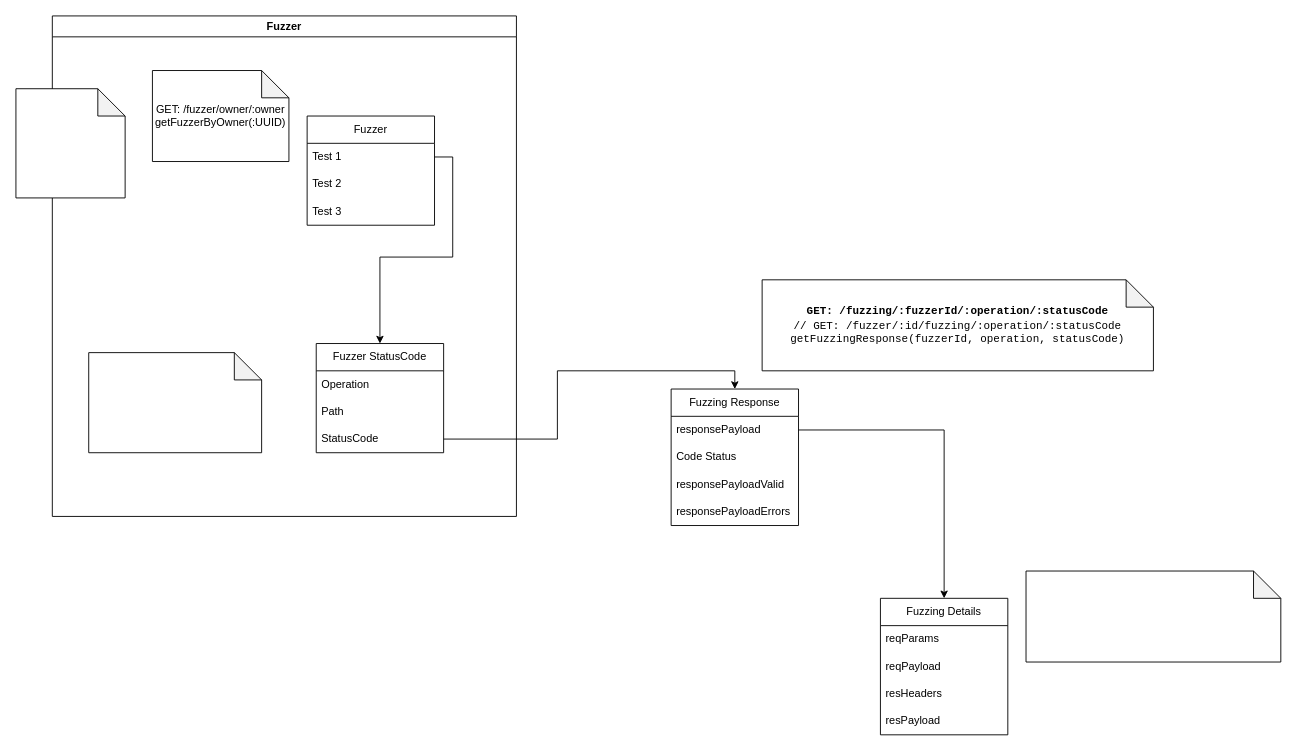
Image size: 1297x751. Some labels were removed from this diagram. The shapes that lost their labels are listed below. From the top down, each one's centre as x and y in pixels, then its label:
point (70, 143): GET: /fuzzer/:id getFuzzer(UUID)
point (175, 402): GET: /fuzzing/:fuzzerId getFuzzingFor(UUID)
point (1153, 616): GET: /fuzzer/:id/fuzzing/req/:id getFuzzing(fuzzerId, requestId)
